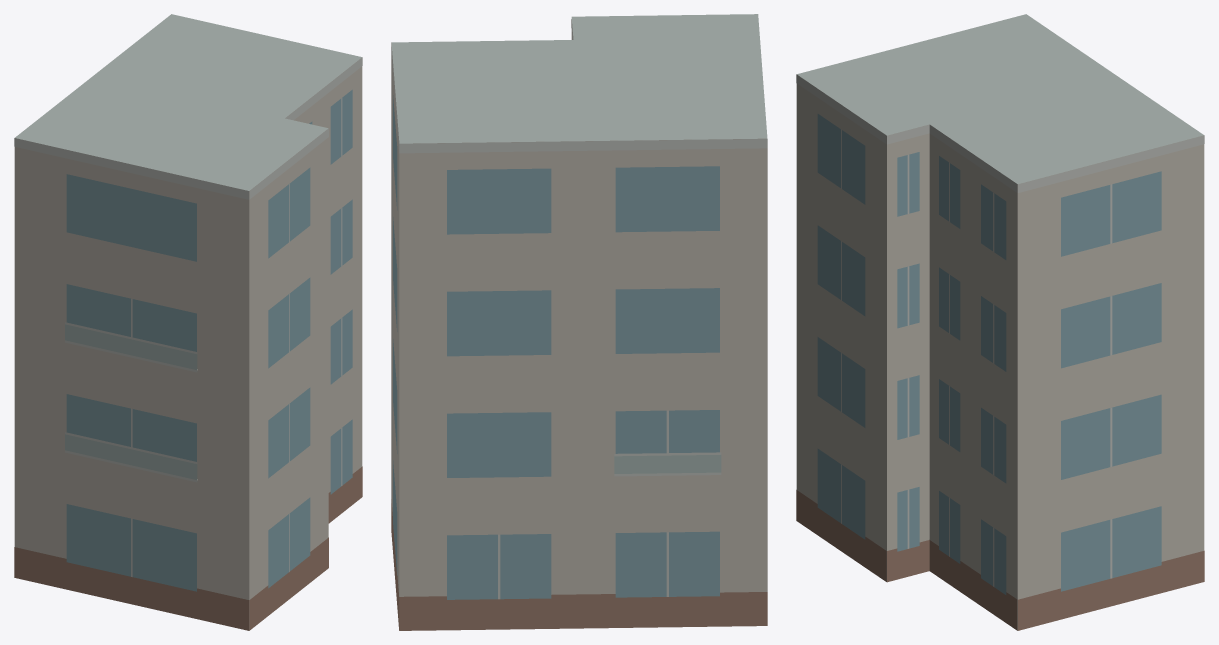
File: residential-41380d97-cb73-4521-8f6e-e50c81f05774.glb
The picture shows the model from 3 angles, left to right: view 1: azimuth 30°, elevation 25°; view 2: azimuth 150°, elevation 25°; view 3: azimuth 270°, elevation 25°; orthographic projection. The views are drawn at different scales.
Parts seen in each view (by area): view 1: residential-41380d97-cb73-4521-8f6e-e50c81f05774.tmp; view 2: residential-41380d97-cb73-4521-8f6e-e50c81f05774.tmp; view 3: residential-41380d97-cb73-4521-8f6e-e50c81f05774.tmp.
Part boxes in pixels (x1,y1,x2,y2): residential-41380d97-cb73-4521-8f6e-e50c81f05774.tmp: (14, 14, 362, 630); residential-41380d97-cb73-4521-8f6e-e50c81f05774.tmp: (391, 14, 767, 630); residential-41380d97-cb73-4521-8f6e-e50c81f05774.tmp: (796, 14, 1204, 630).
Bounding box in the file's own units: 9.99 × 12.2 × 10.11.
